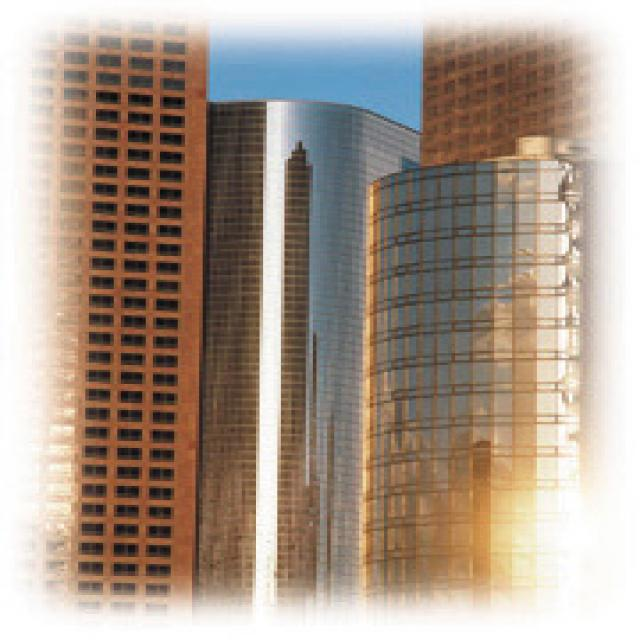building: (363, 136, 640, 601), (212, 101, 420, 606), (58, 22, 210, 609), (421, 39, 599, 138)
